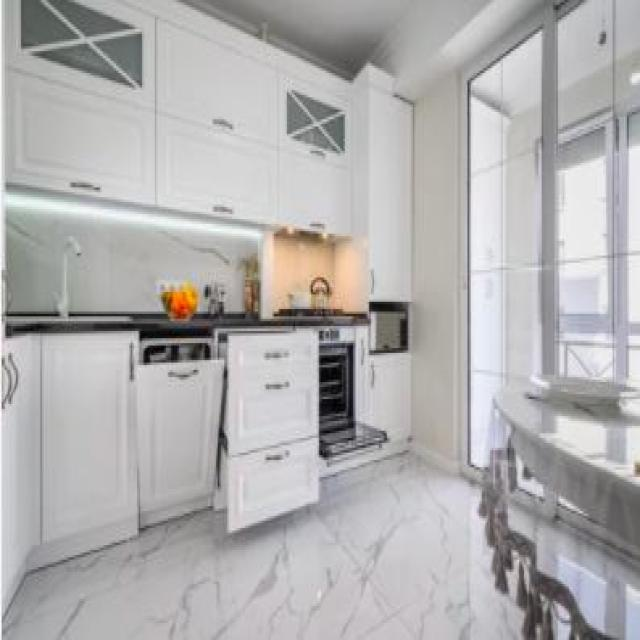dishwasher: (130, 331, 226, 533)
